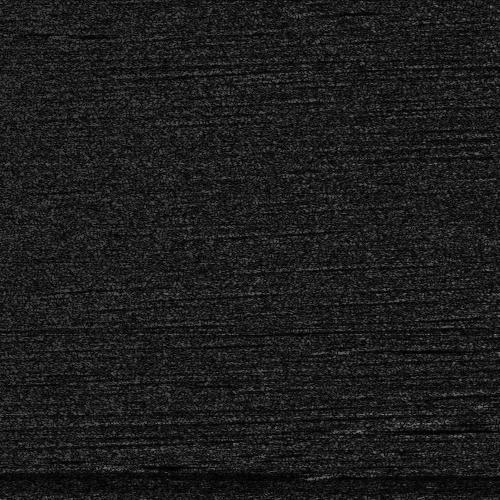object: (78, 462, 151, 467), (310, 426, 373, 431)
shadow: (341, 426, 482, 431), (114, 462, 146, 467)
